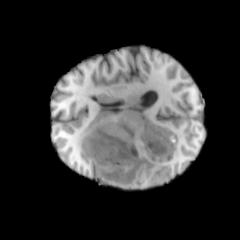glioma: (75, 118, 180, 187)
